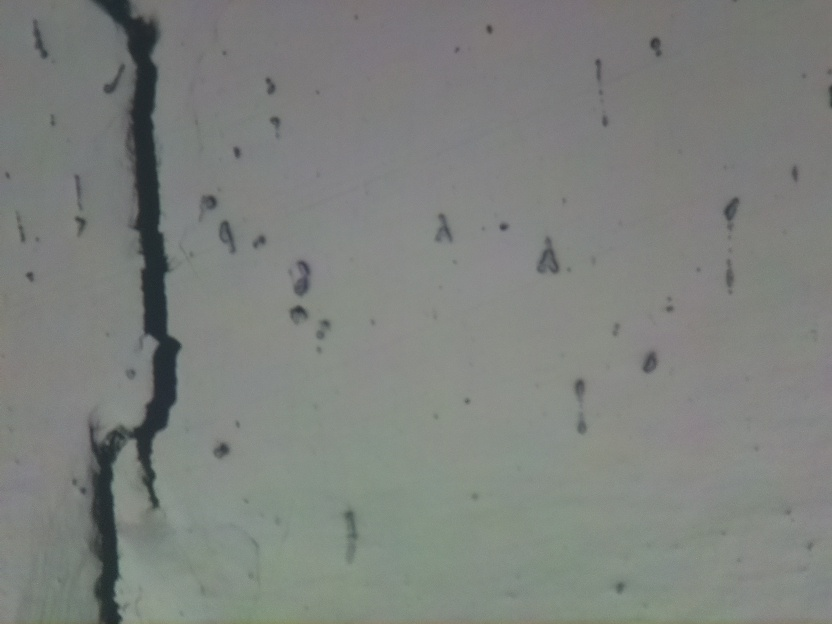crack: (86, 2, 183, 624)
